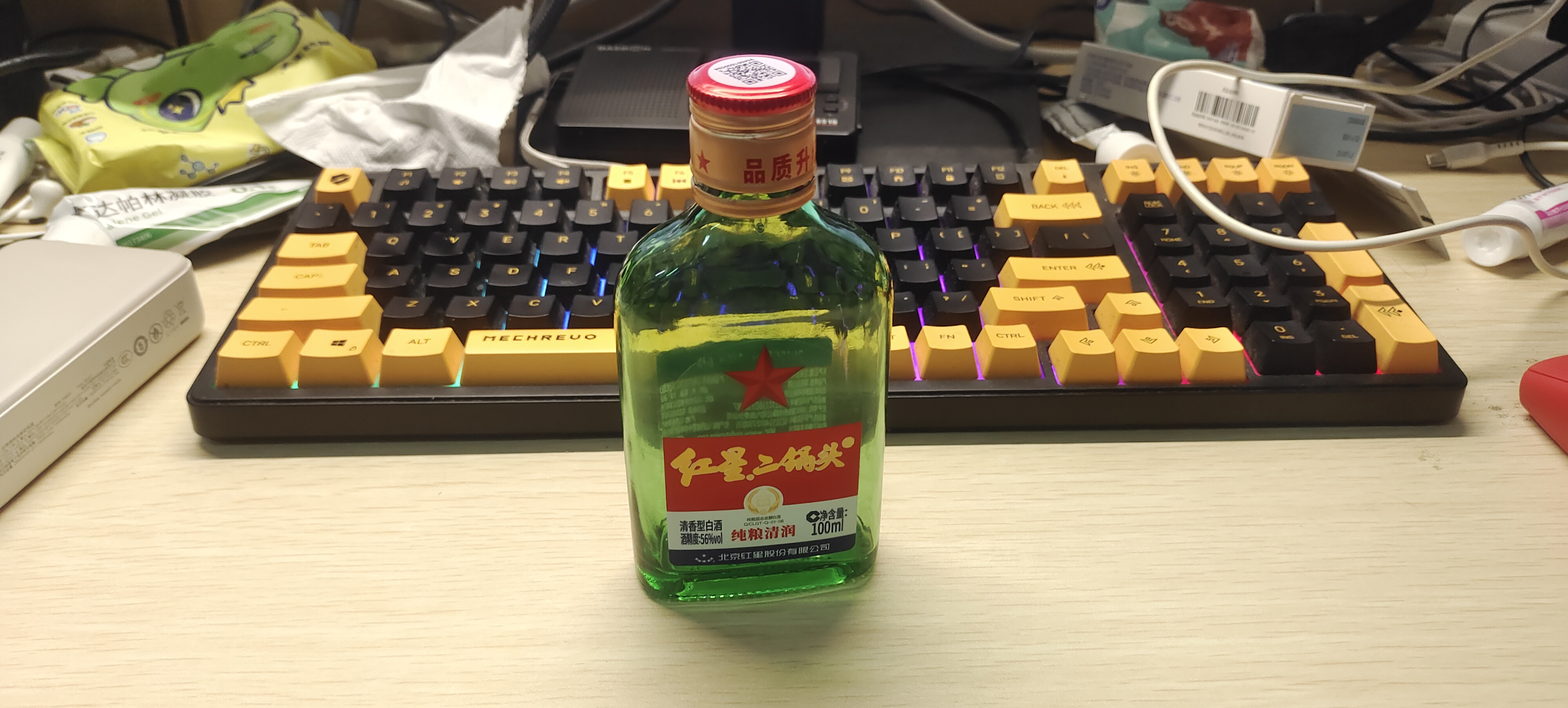redbull: (583, 26, 936, 643)
